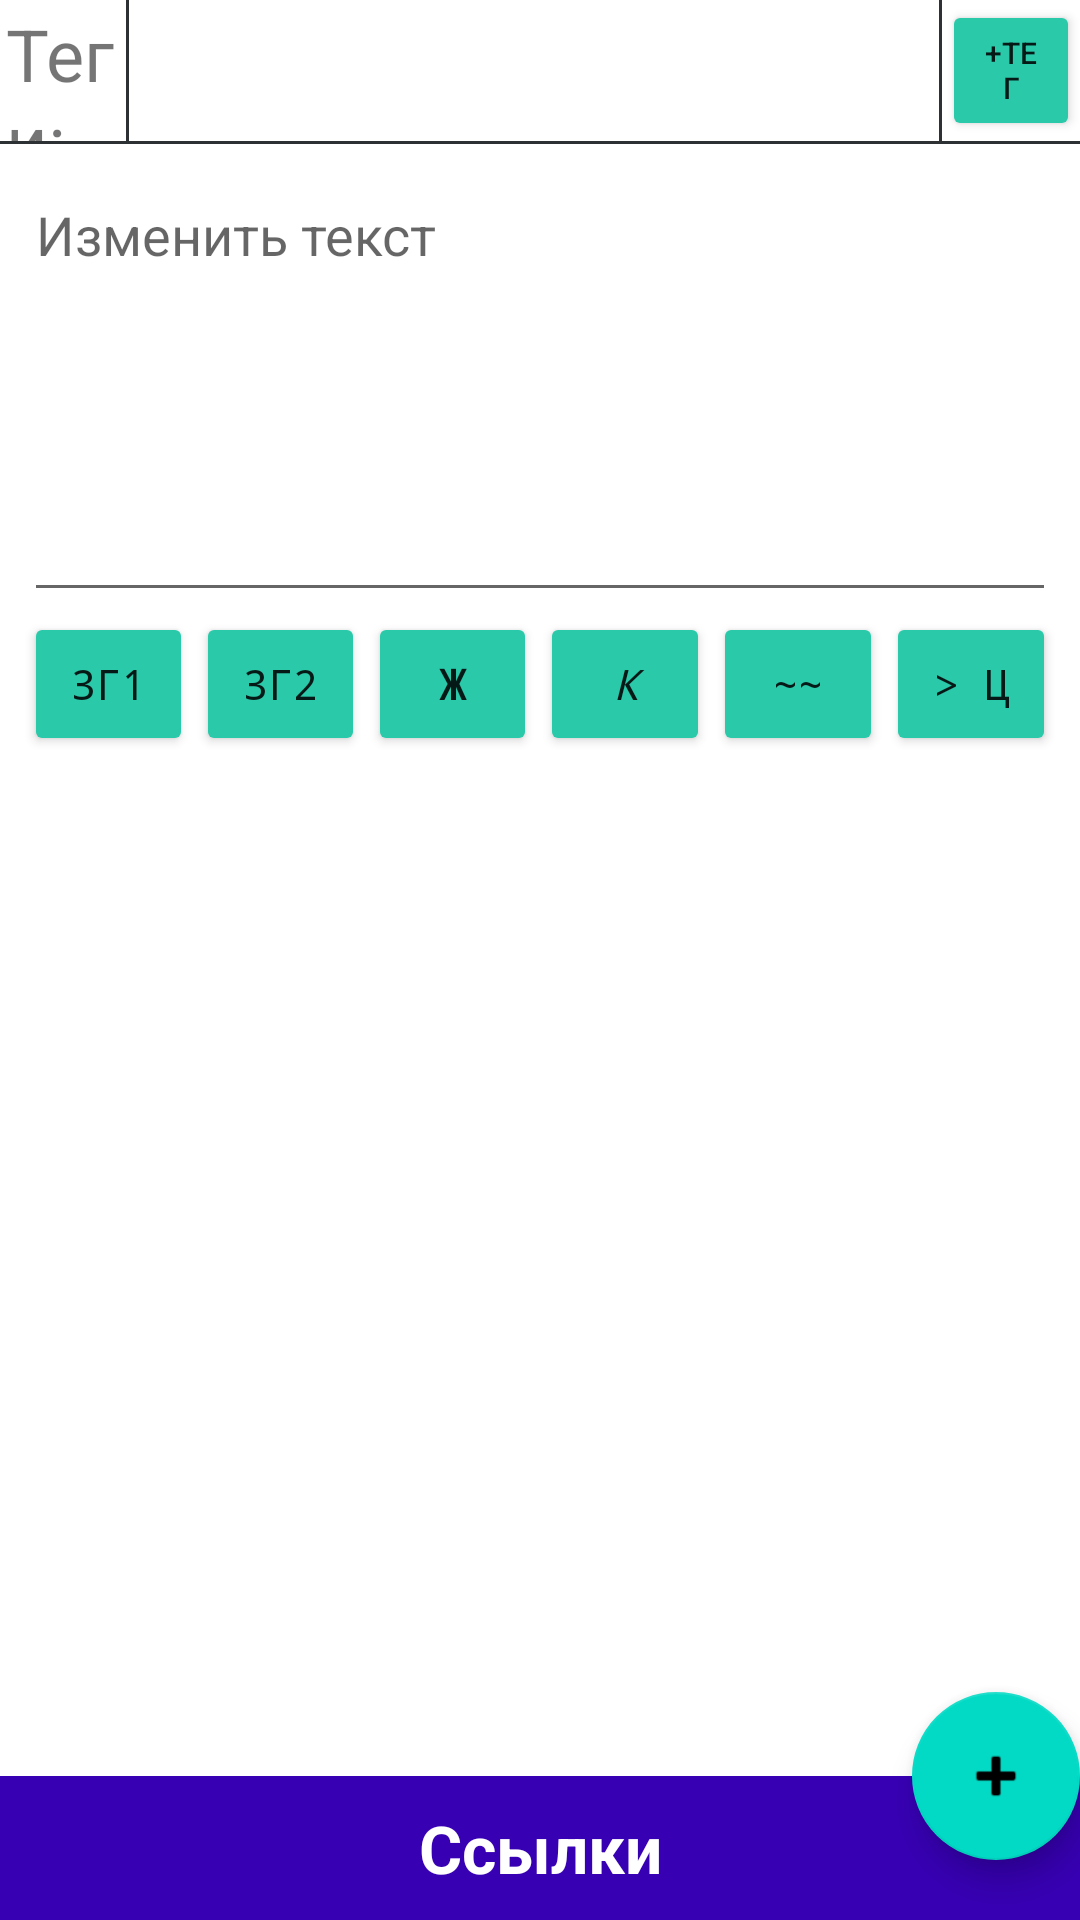

Icon click points for this 1080x1920 phone screenshot, format [x,y]:
add: [996,1776]
